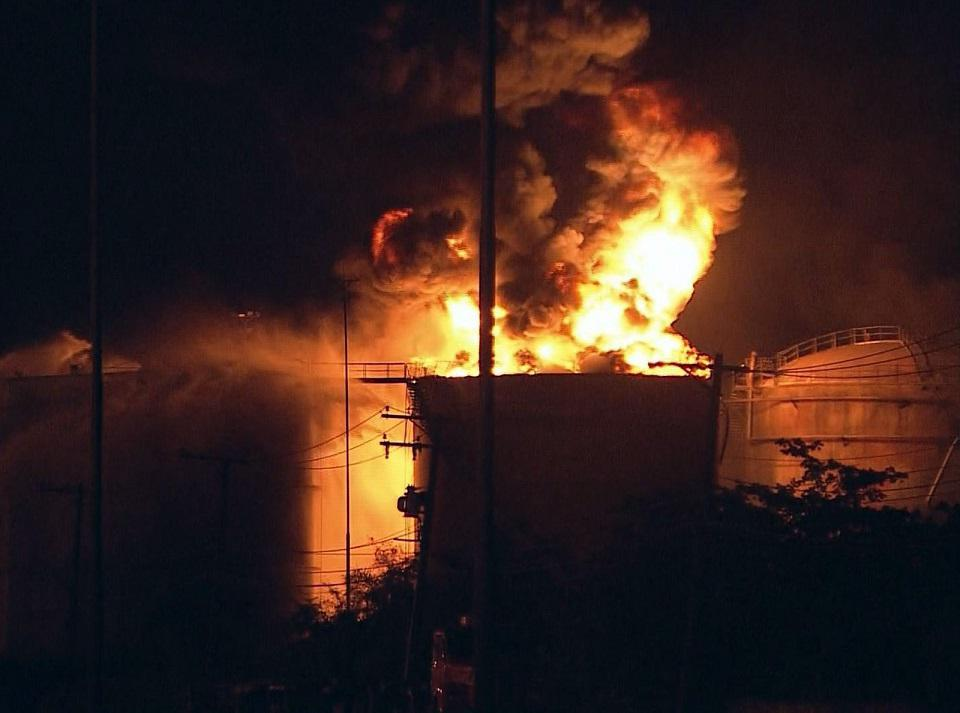Fire: (489, 200, 728, 373), (314, 393, 410, 612), (419, 289, 479, 372)
